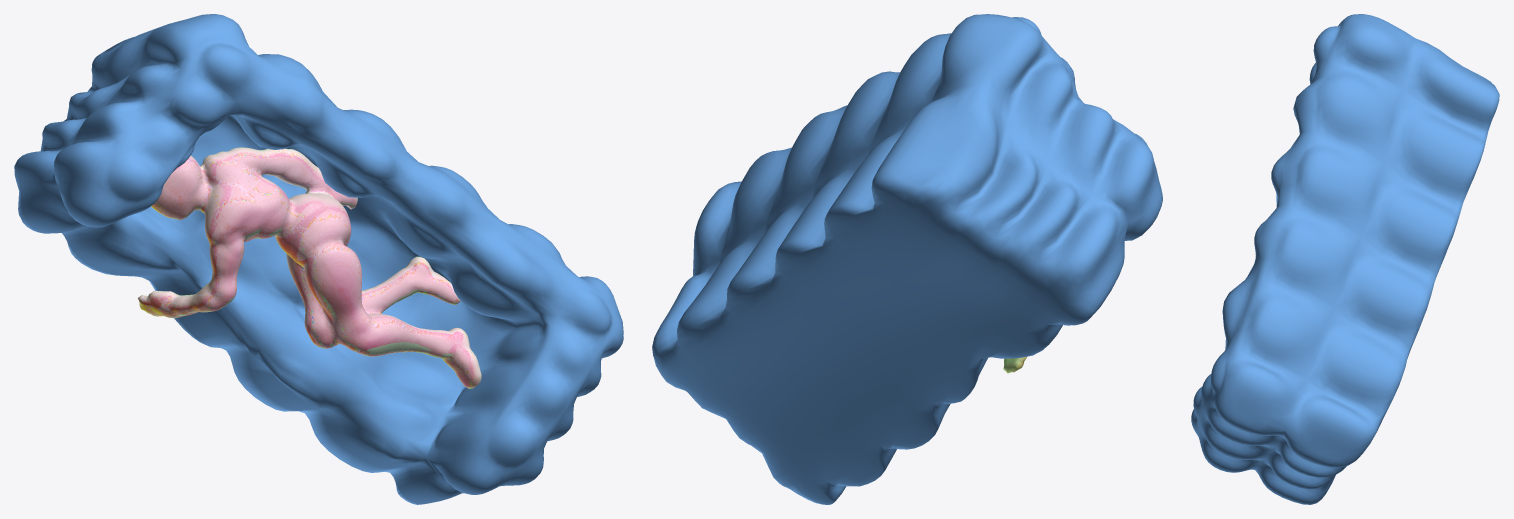
The model's file is ani1.glb.
3 renders of one model, left to right at view 1: azimuth 30°, elevation 25°; view 2: azimuth 150°, elevation 25°; view 3: azimuth 270°, elevation 25°, orthographic. The views are drawn at different scales.
Visible parts, largest first — view 1: Cube, Beta_Surface; view 2: Cube; view 3: Cube.
Boxes of the visible parts, x1,y1,x2,y2 form: Cube: [14, 14, 623, 504]; Beta_Surface: [138, 147, 481, 388]; Cube: [652, 14, 1162, 504]; Cube: [1191, 14, 1499, 504].
Size of the model in its own units: 7.58 by 7.75 by 5.38.
Materials: 2 (1 with a texture image).
